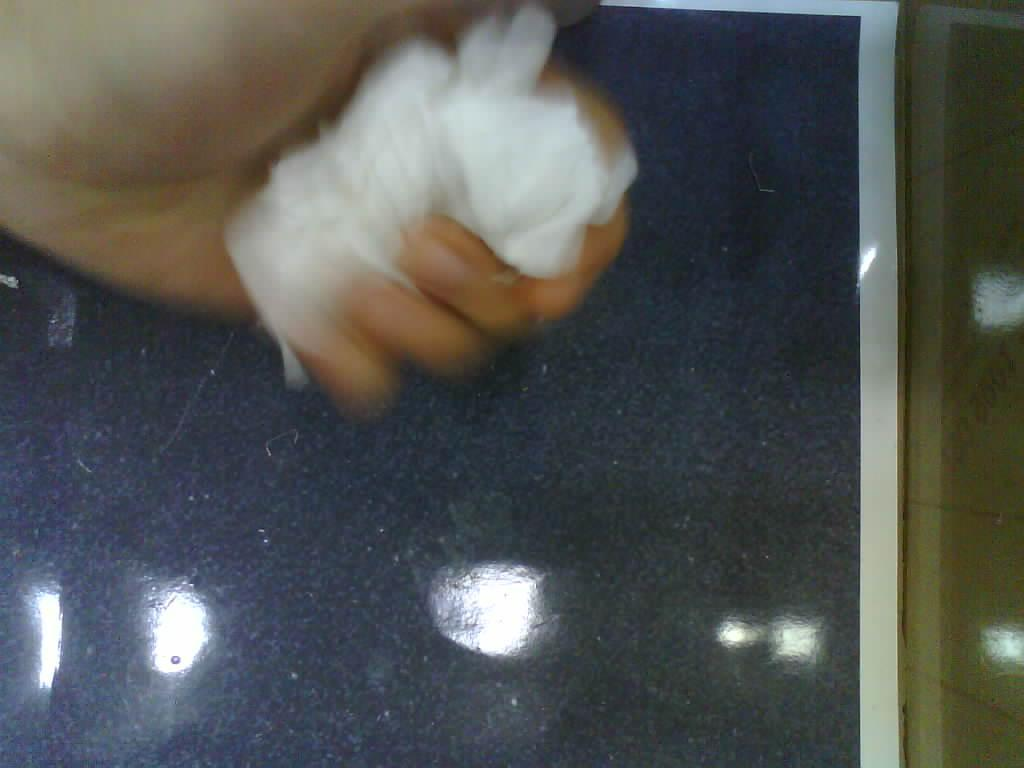paper: (226, 6, 636, 386)
